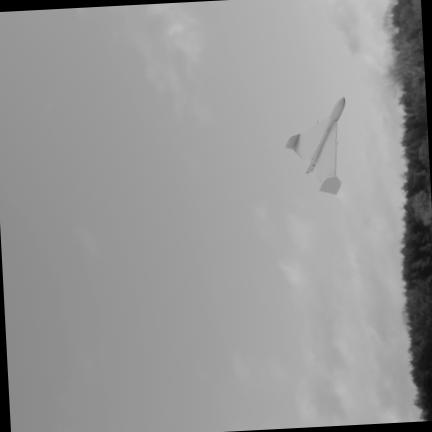Shahed: (285, 97, 345, 194)
